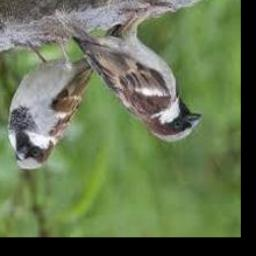Sparrow: (52, 7, 202, 143), (8, 25, 126, 170)
